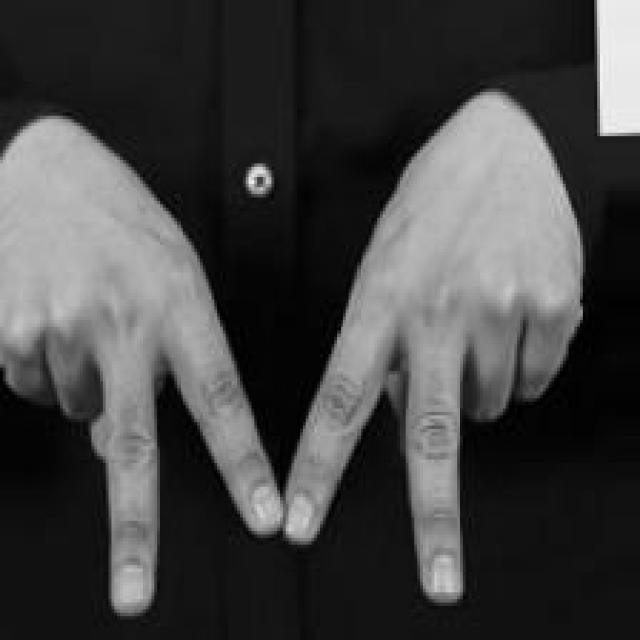M: (0, 104, 582, 619)
